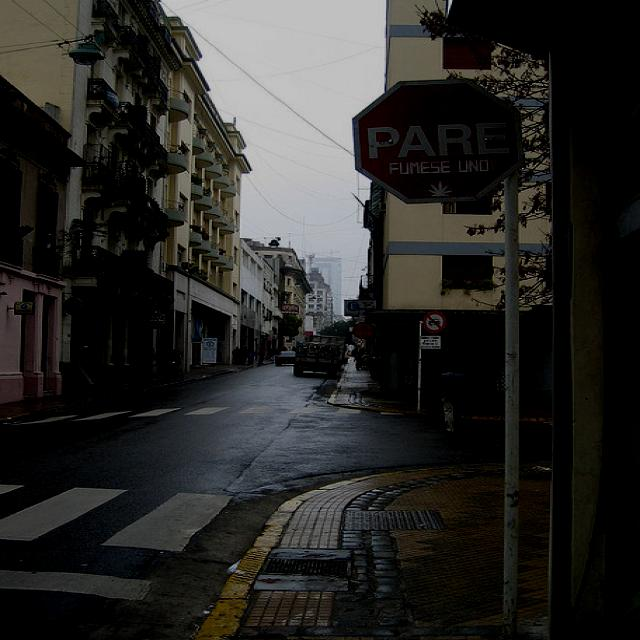Vehicle: (293, 335, 339, 377), (275, 351, 297, 366)
